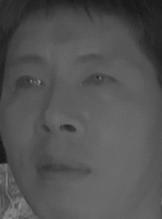eye: (81, 68, 119, 94), (13, 73, 48, 95)
mouth: (27, 147, 94, 191)
